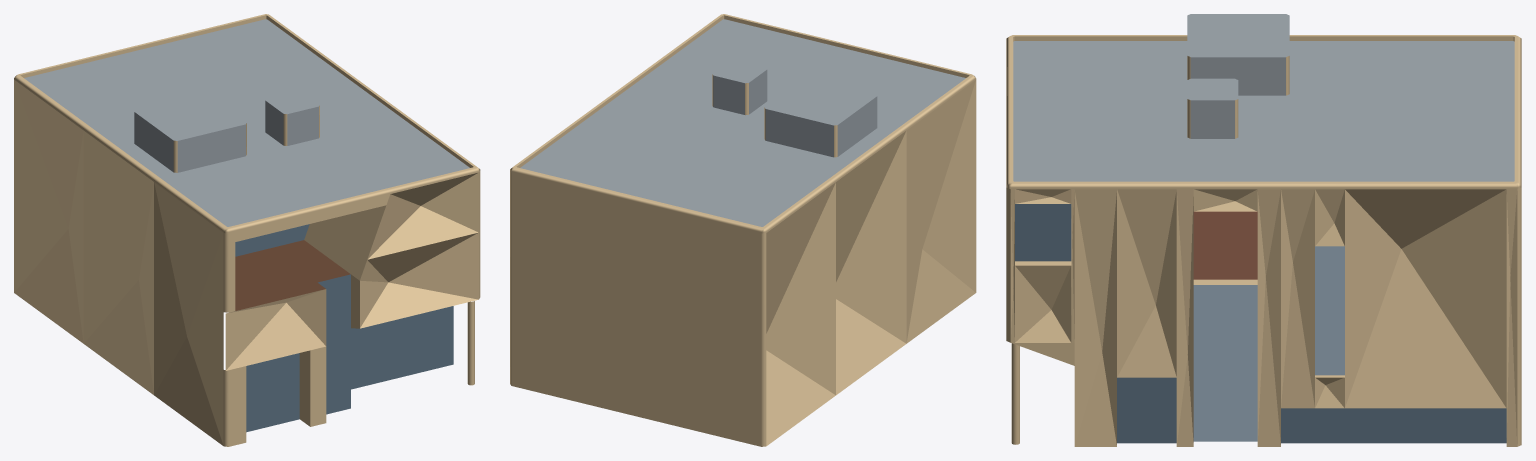
Rendered from mint-museum-uptown.glb.
3 renders of one model, left to right at view 1: azimuth 30°, elevation 25°; view 2: azimuth 150°, elevation 25°; view 3: azimuth 270°, elevation 25°, orthographic. The views are drawn at different scales.
Parts seen in each view (by area): view 1: Mint Museum Uptown; view 2: Mint Museum Uptown; view 3: Mint Museum Uptown.
Part boxes in pixels (<box>): Mint Museum Uptown: <box>14,14,480,446</box>; Mint Museum Uptown: <box>510,14,976,446</box>; Mint Museum Uptown: <box>1006,14,1521,446</box>.
Bounding box in the file's own units: 42 × 38.4 × 60.5.
